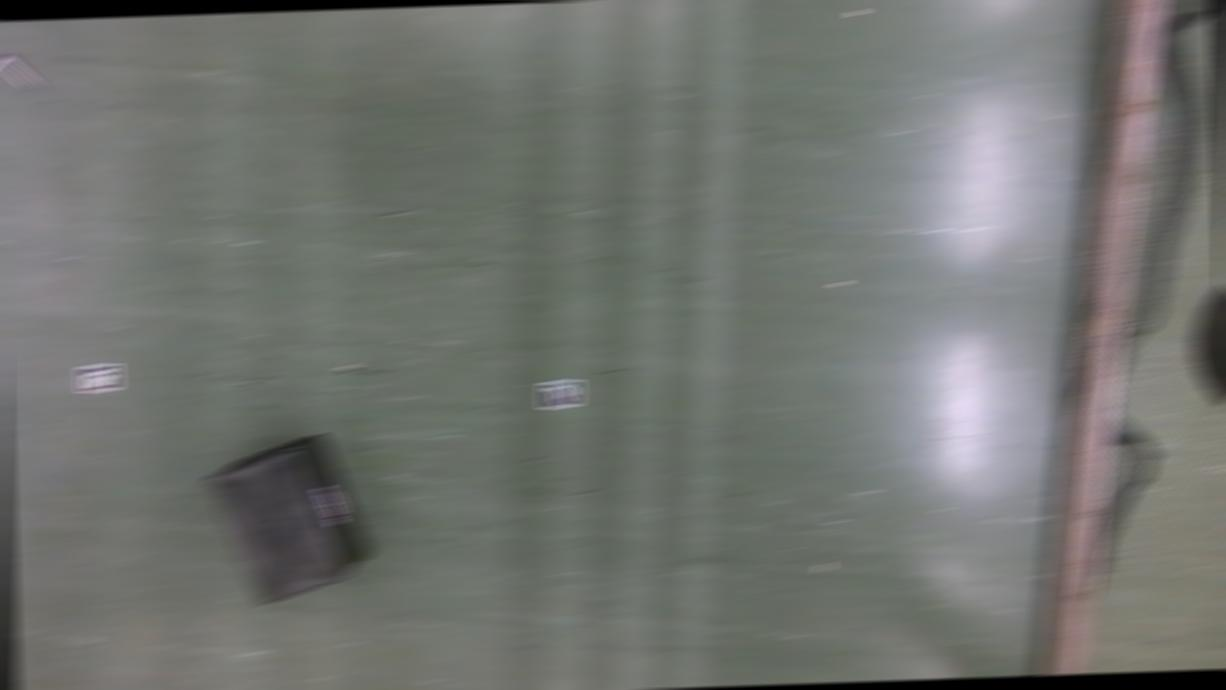probes: (0, 50, 39, 90)
rako: (203, 432, 374, 606)
